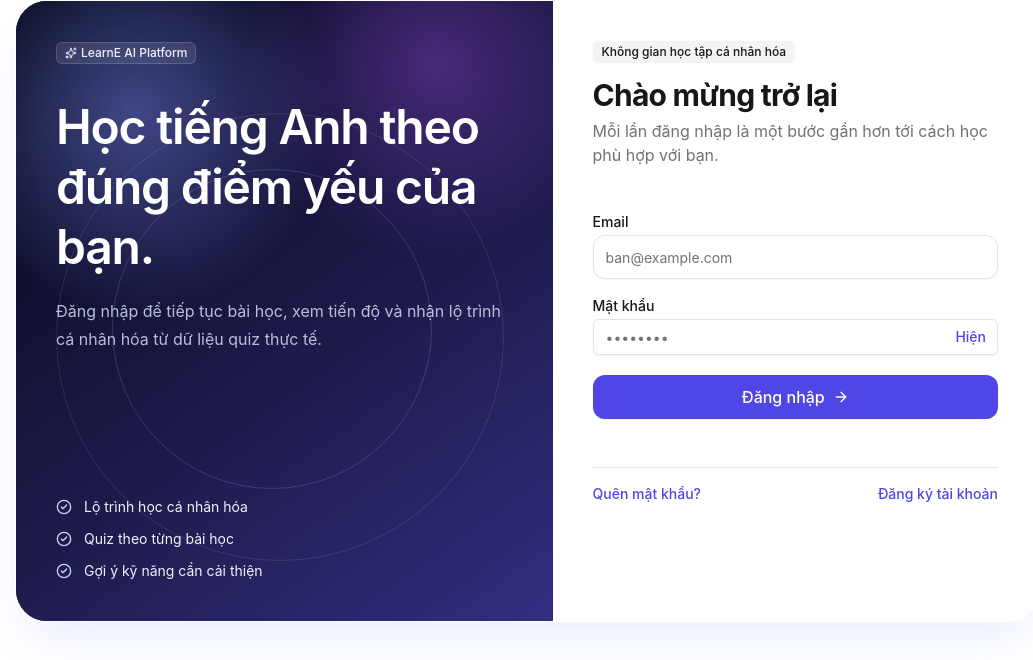
Scenario: LoginPage rate limits › shows the unavailable message without locking the form
The width and height of the screenshot is (1033, 660).
In the field labelled "Email": [795, 257] box 592,235 -> 998,279, type "student01@learne.local"
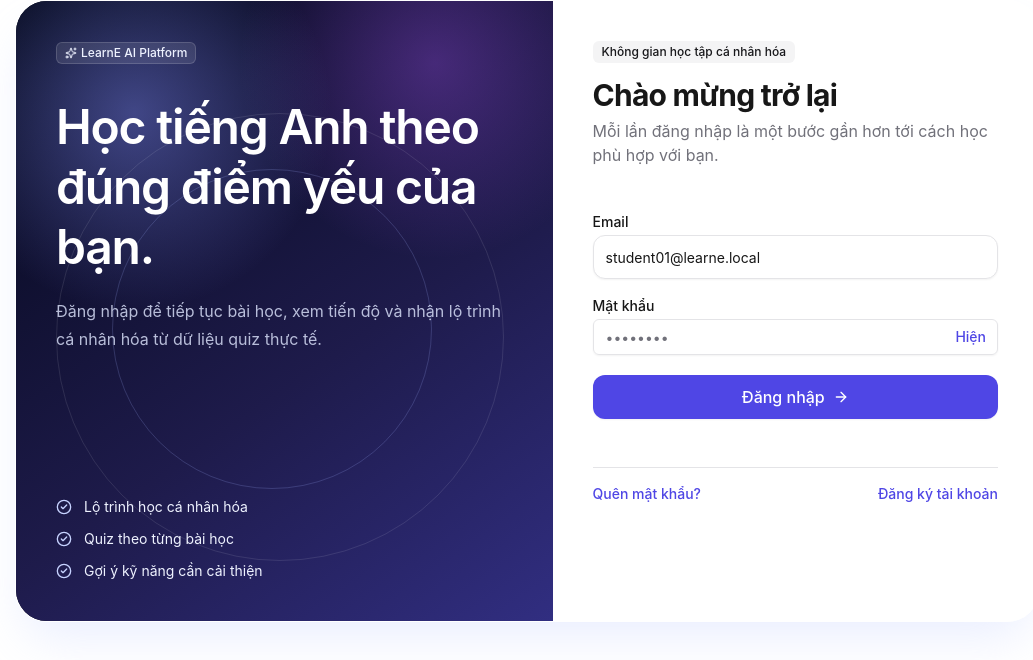
In the password field labelled "Mật khẩu": [795, 337] box 592,319 -> 998,355, type "Admin123"
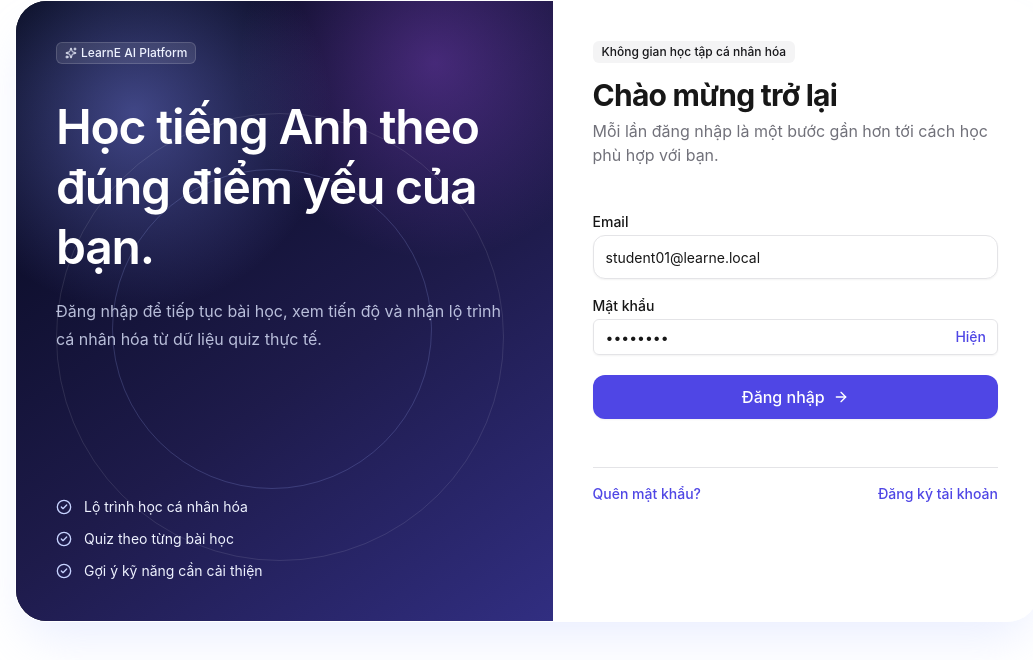
Click the button "Đăng nhập": [795, 397] box 592,375 -> 998,419
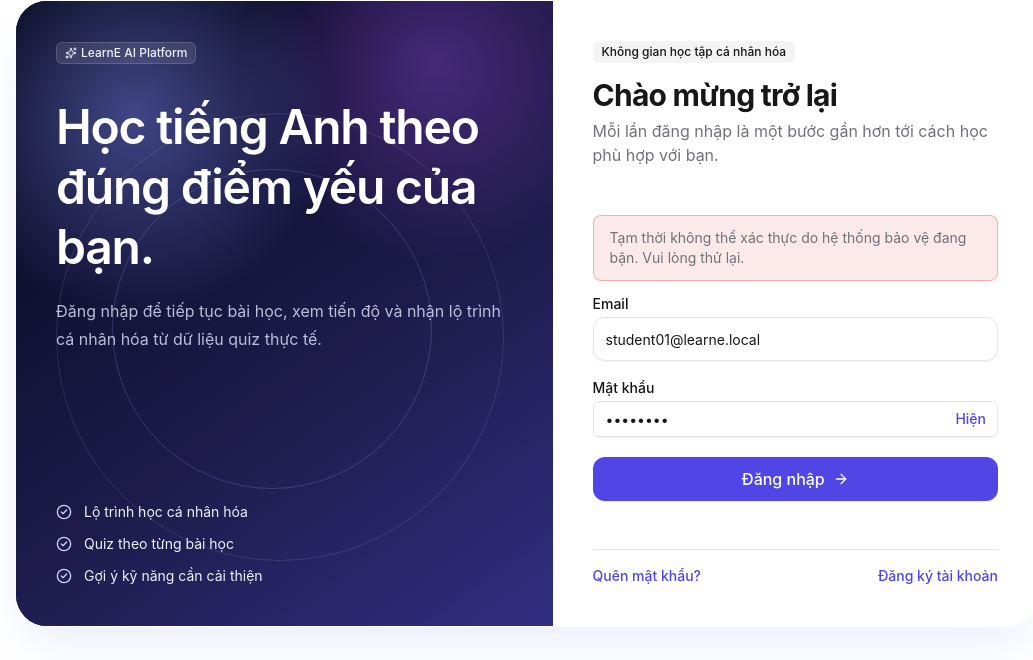
Expected: the button "Đăng nhập" is enabled, 592,457 -> 998,501
Now the text "Tạm thời không thể xác thực" is shown, box 610,229 -> 966,266
